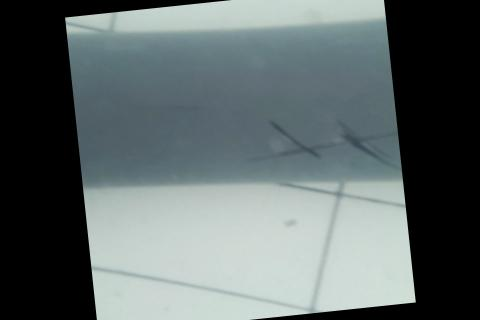keretakan: (239, 106, 401, 186)
